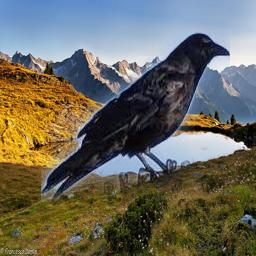Crow: (42, 32, 231, 202)
